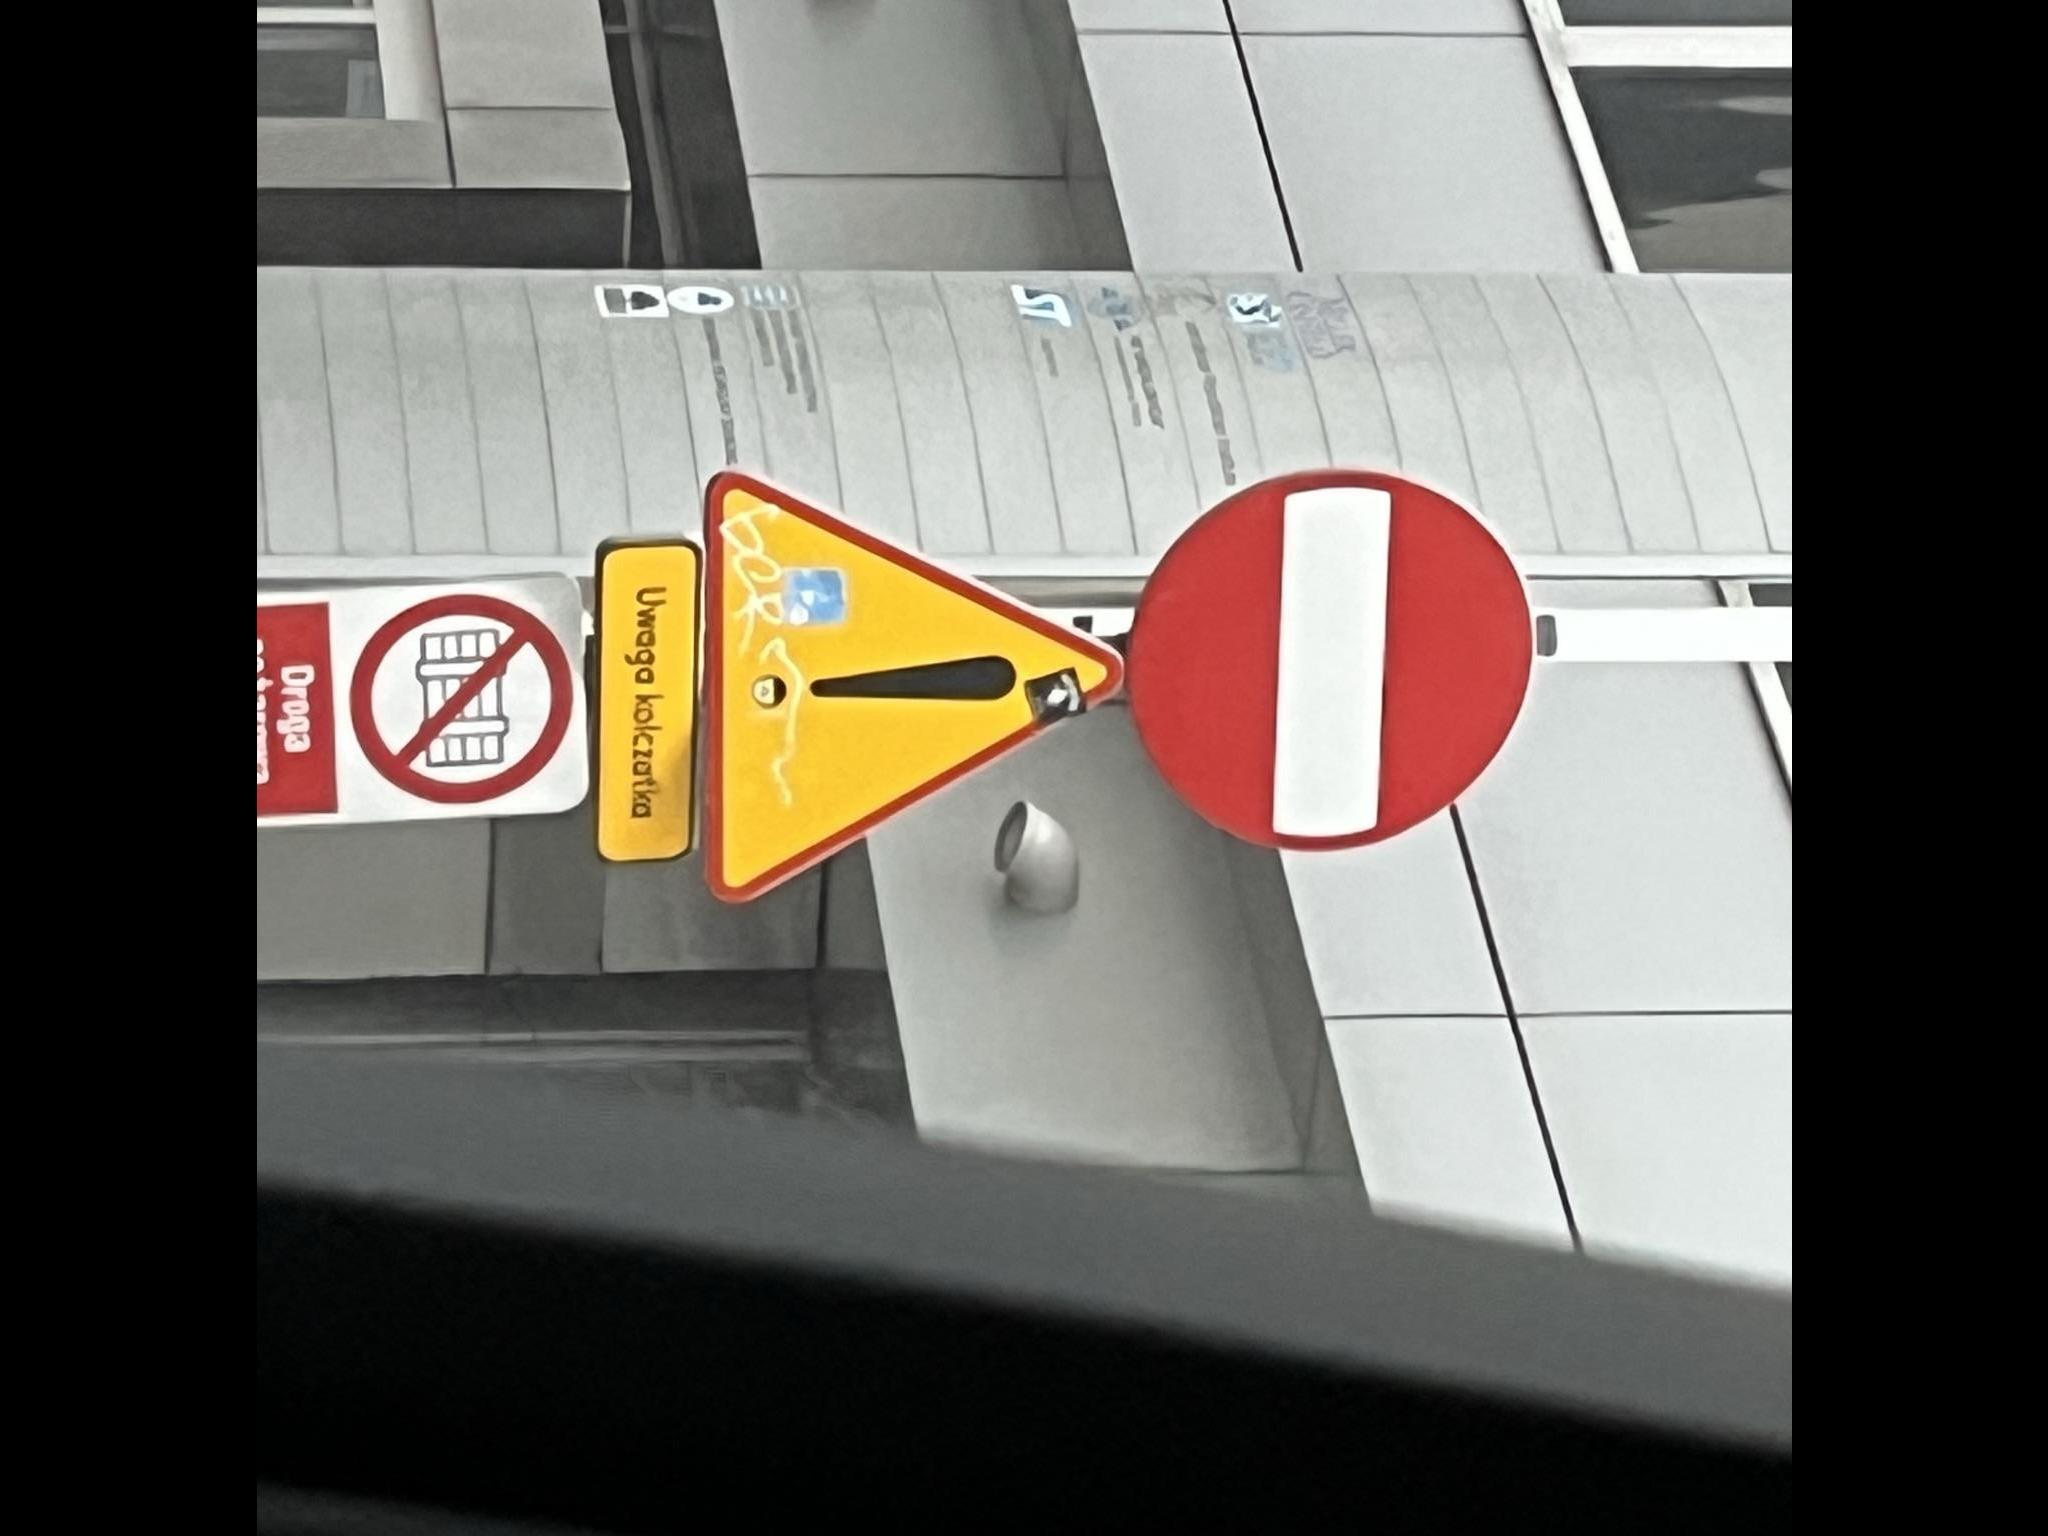other: (256, 573, 585, 829), (590, 537, 701, 865)
prohibitory: (1121, 470, 1538, 854)
warning: (706, 470, 1124, 902)
